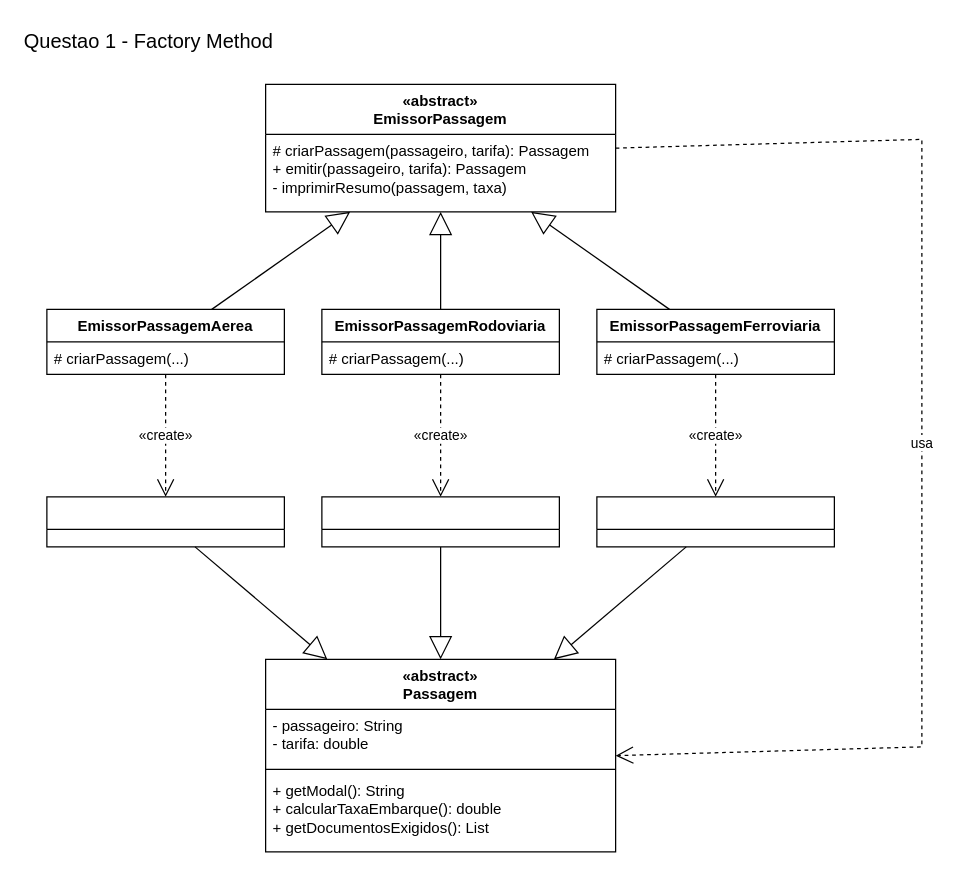
The diagram is 961 pixels wide and 876 high, and some of its shapes have lost their labels. Each missing label, with the centre of its shape:
PassagemAerea: (x=165, y=521)
PassagemFerroviaria: (x=715, y=521)
PassagemRodoviaria: (x=440, y=521)
